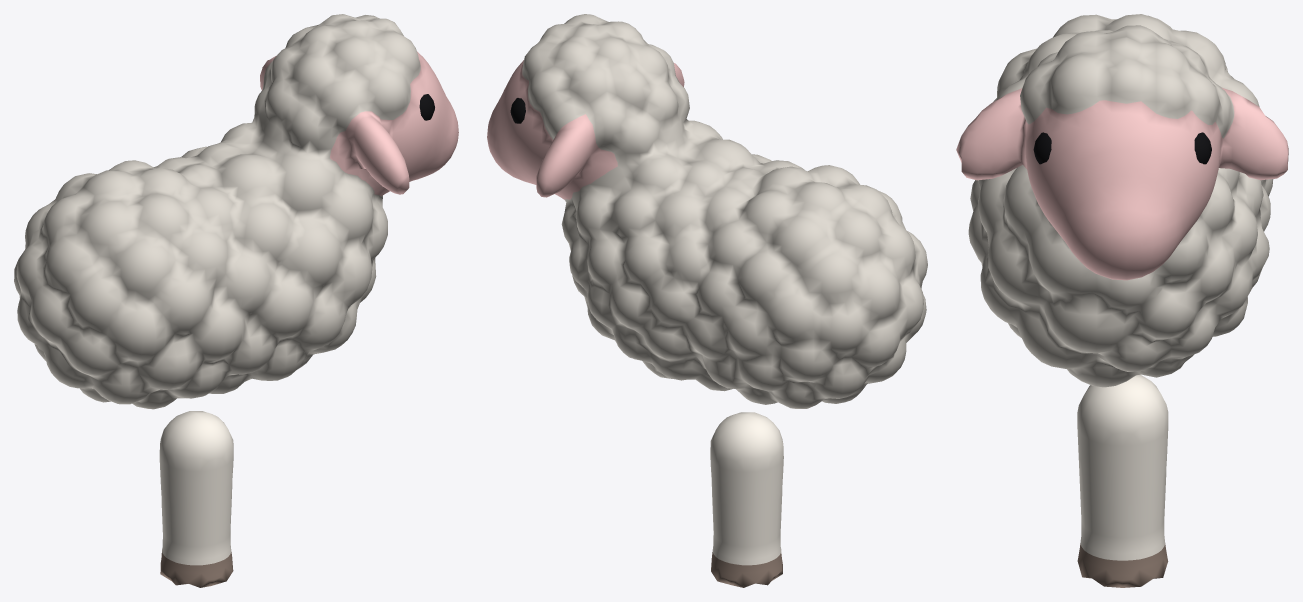
The model's file is sheep_baby.glb.
The picture shows the model from 3 angles, left to right: view 1: azimuth 30°, elevation 25°; view 2: azimuth 150°, elevation 25°; view 3: azimuth 270°, elevation 25°; orthographic projection. The views are drawn at different scales.
Parts seen in each view (by area): view 1: body, leg; view 2: body, leg; view 3: body, leg, eye.
Boxes of the visible parts, x1,y1,x2,y2 form: body: [14, 14, 458, 409]; leg: [159, 411, 233, 587]; body: [487, 14, 927, 408]; leg: [710, 412, 783, 587]; body: [956, 14, 1288, 387]; leg: [1077, 374, 1168, 587]; eye: [1033, 132, 1211, 164].
Size of the model in its own units: 2.08 by 2.42 by 1.16.
